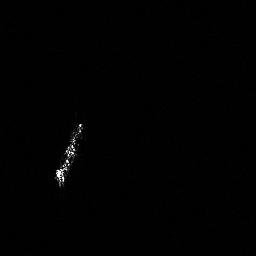ship: (49, 117, 90, 191)
